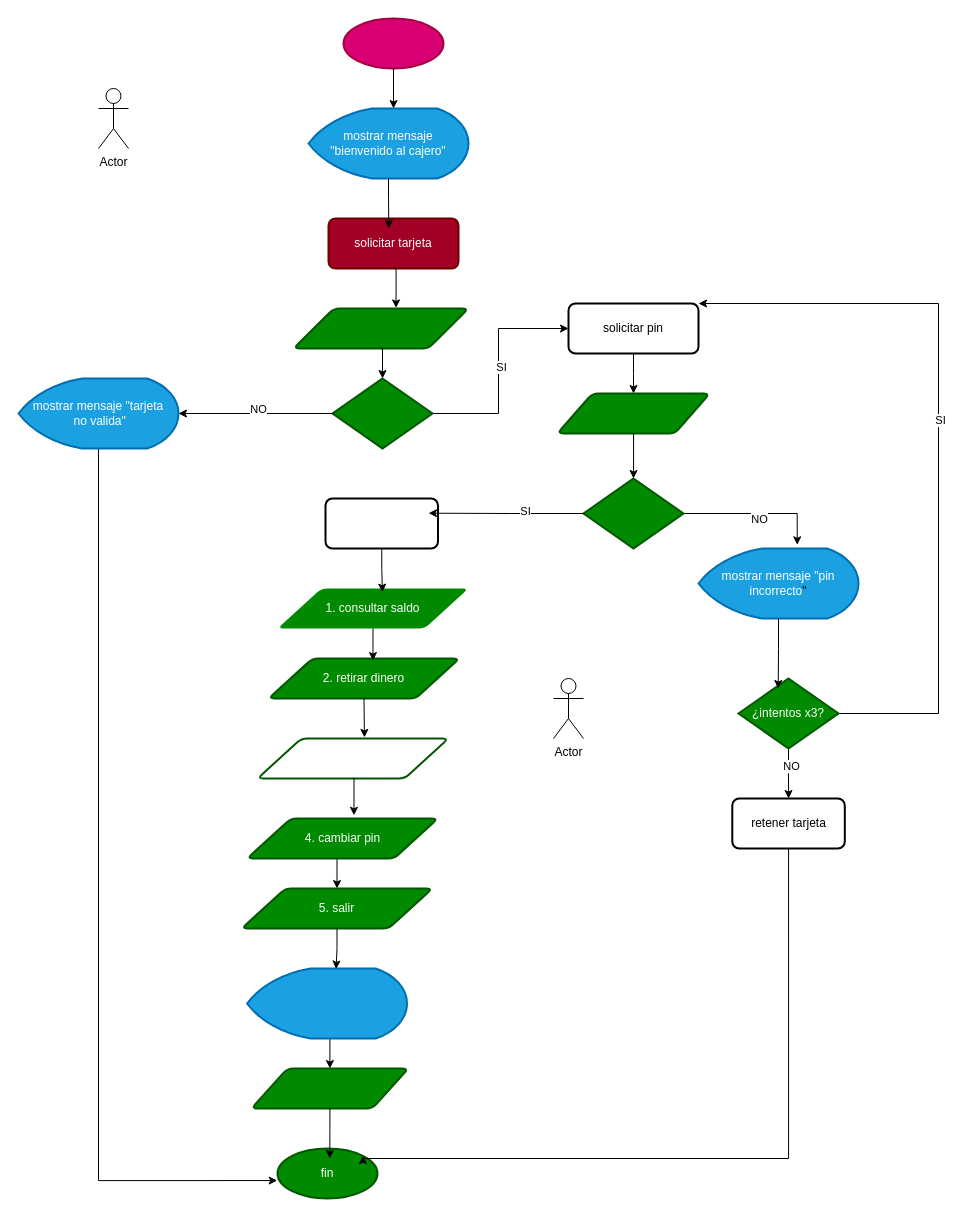
Some shapes in this 964 by 1216 pixel diagram are drawn without their labels. The centre of each missing label's shape, as x and y in pixels:
ingresar pin: point 633,413
inicio: point 393,43
insectar tarjeta: point 380,328
mostrar mensaje "gracias por usar el cajero": point 327,1003
mostrar menú: point 381,523
retirar tarjeta: point 329,1088
¿pin correcto?: point 633,513
¿tarjeta valida?: point 382,413
